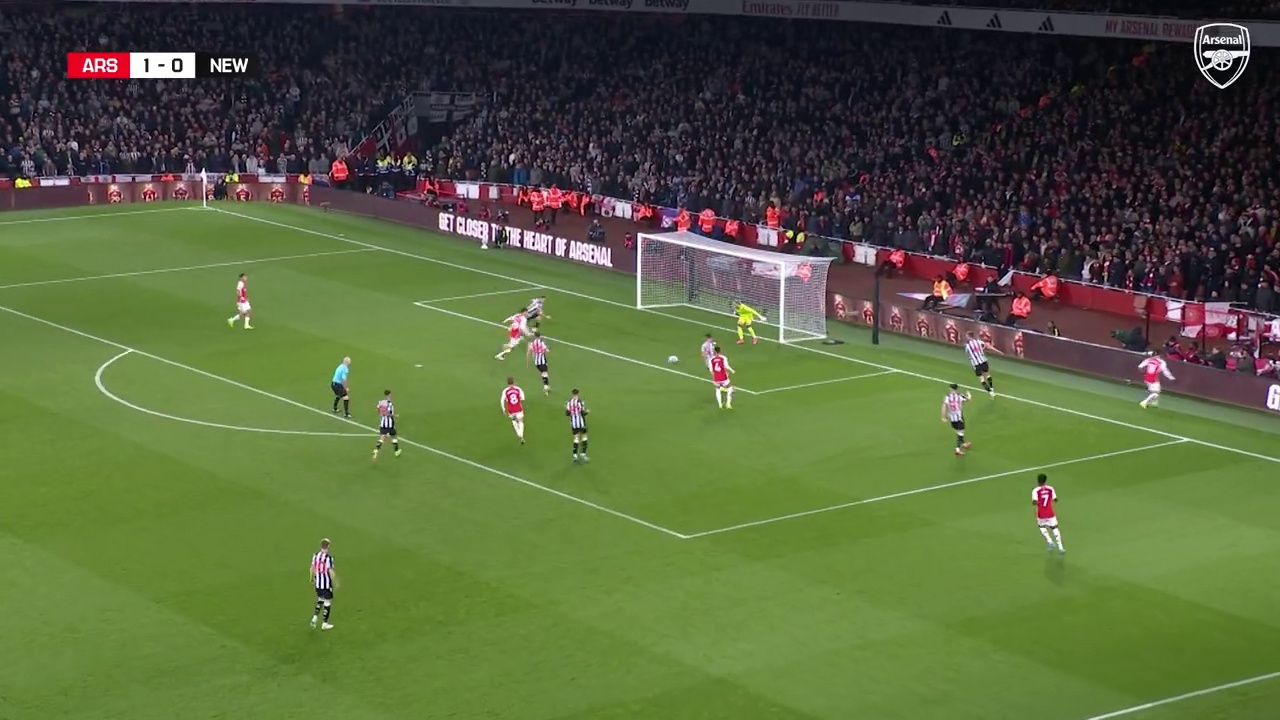ball: (705, 420, 721, 437)
